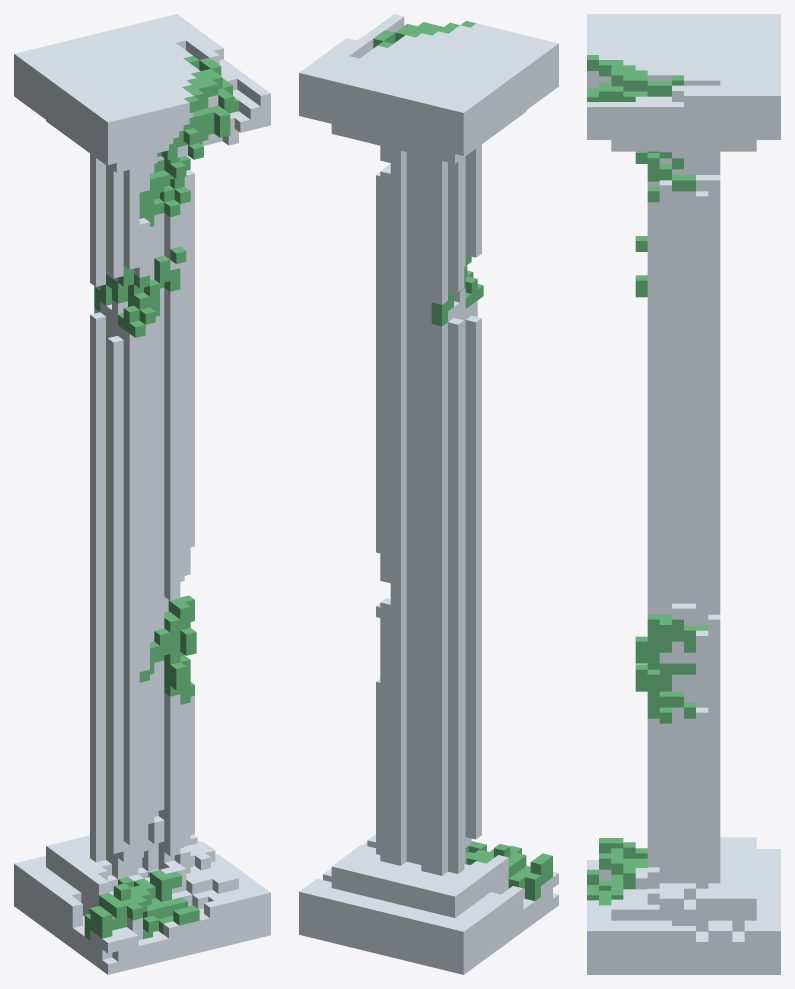
Rendered from yasiki_hasira.obj.
The picture shows the model from 3 angles, left to right: view 1: azimuth 30°, elevation 25°; view 2: azimuth 150°, elevation 25°; view 3: azimuth 270°, elevation 25°; orthographic projection. The views are drawn at different scales.
Size of the model in its own units: 1.6 by 8 by 1.6.
1 material, 1 textured.
